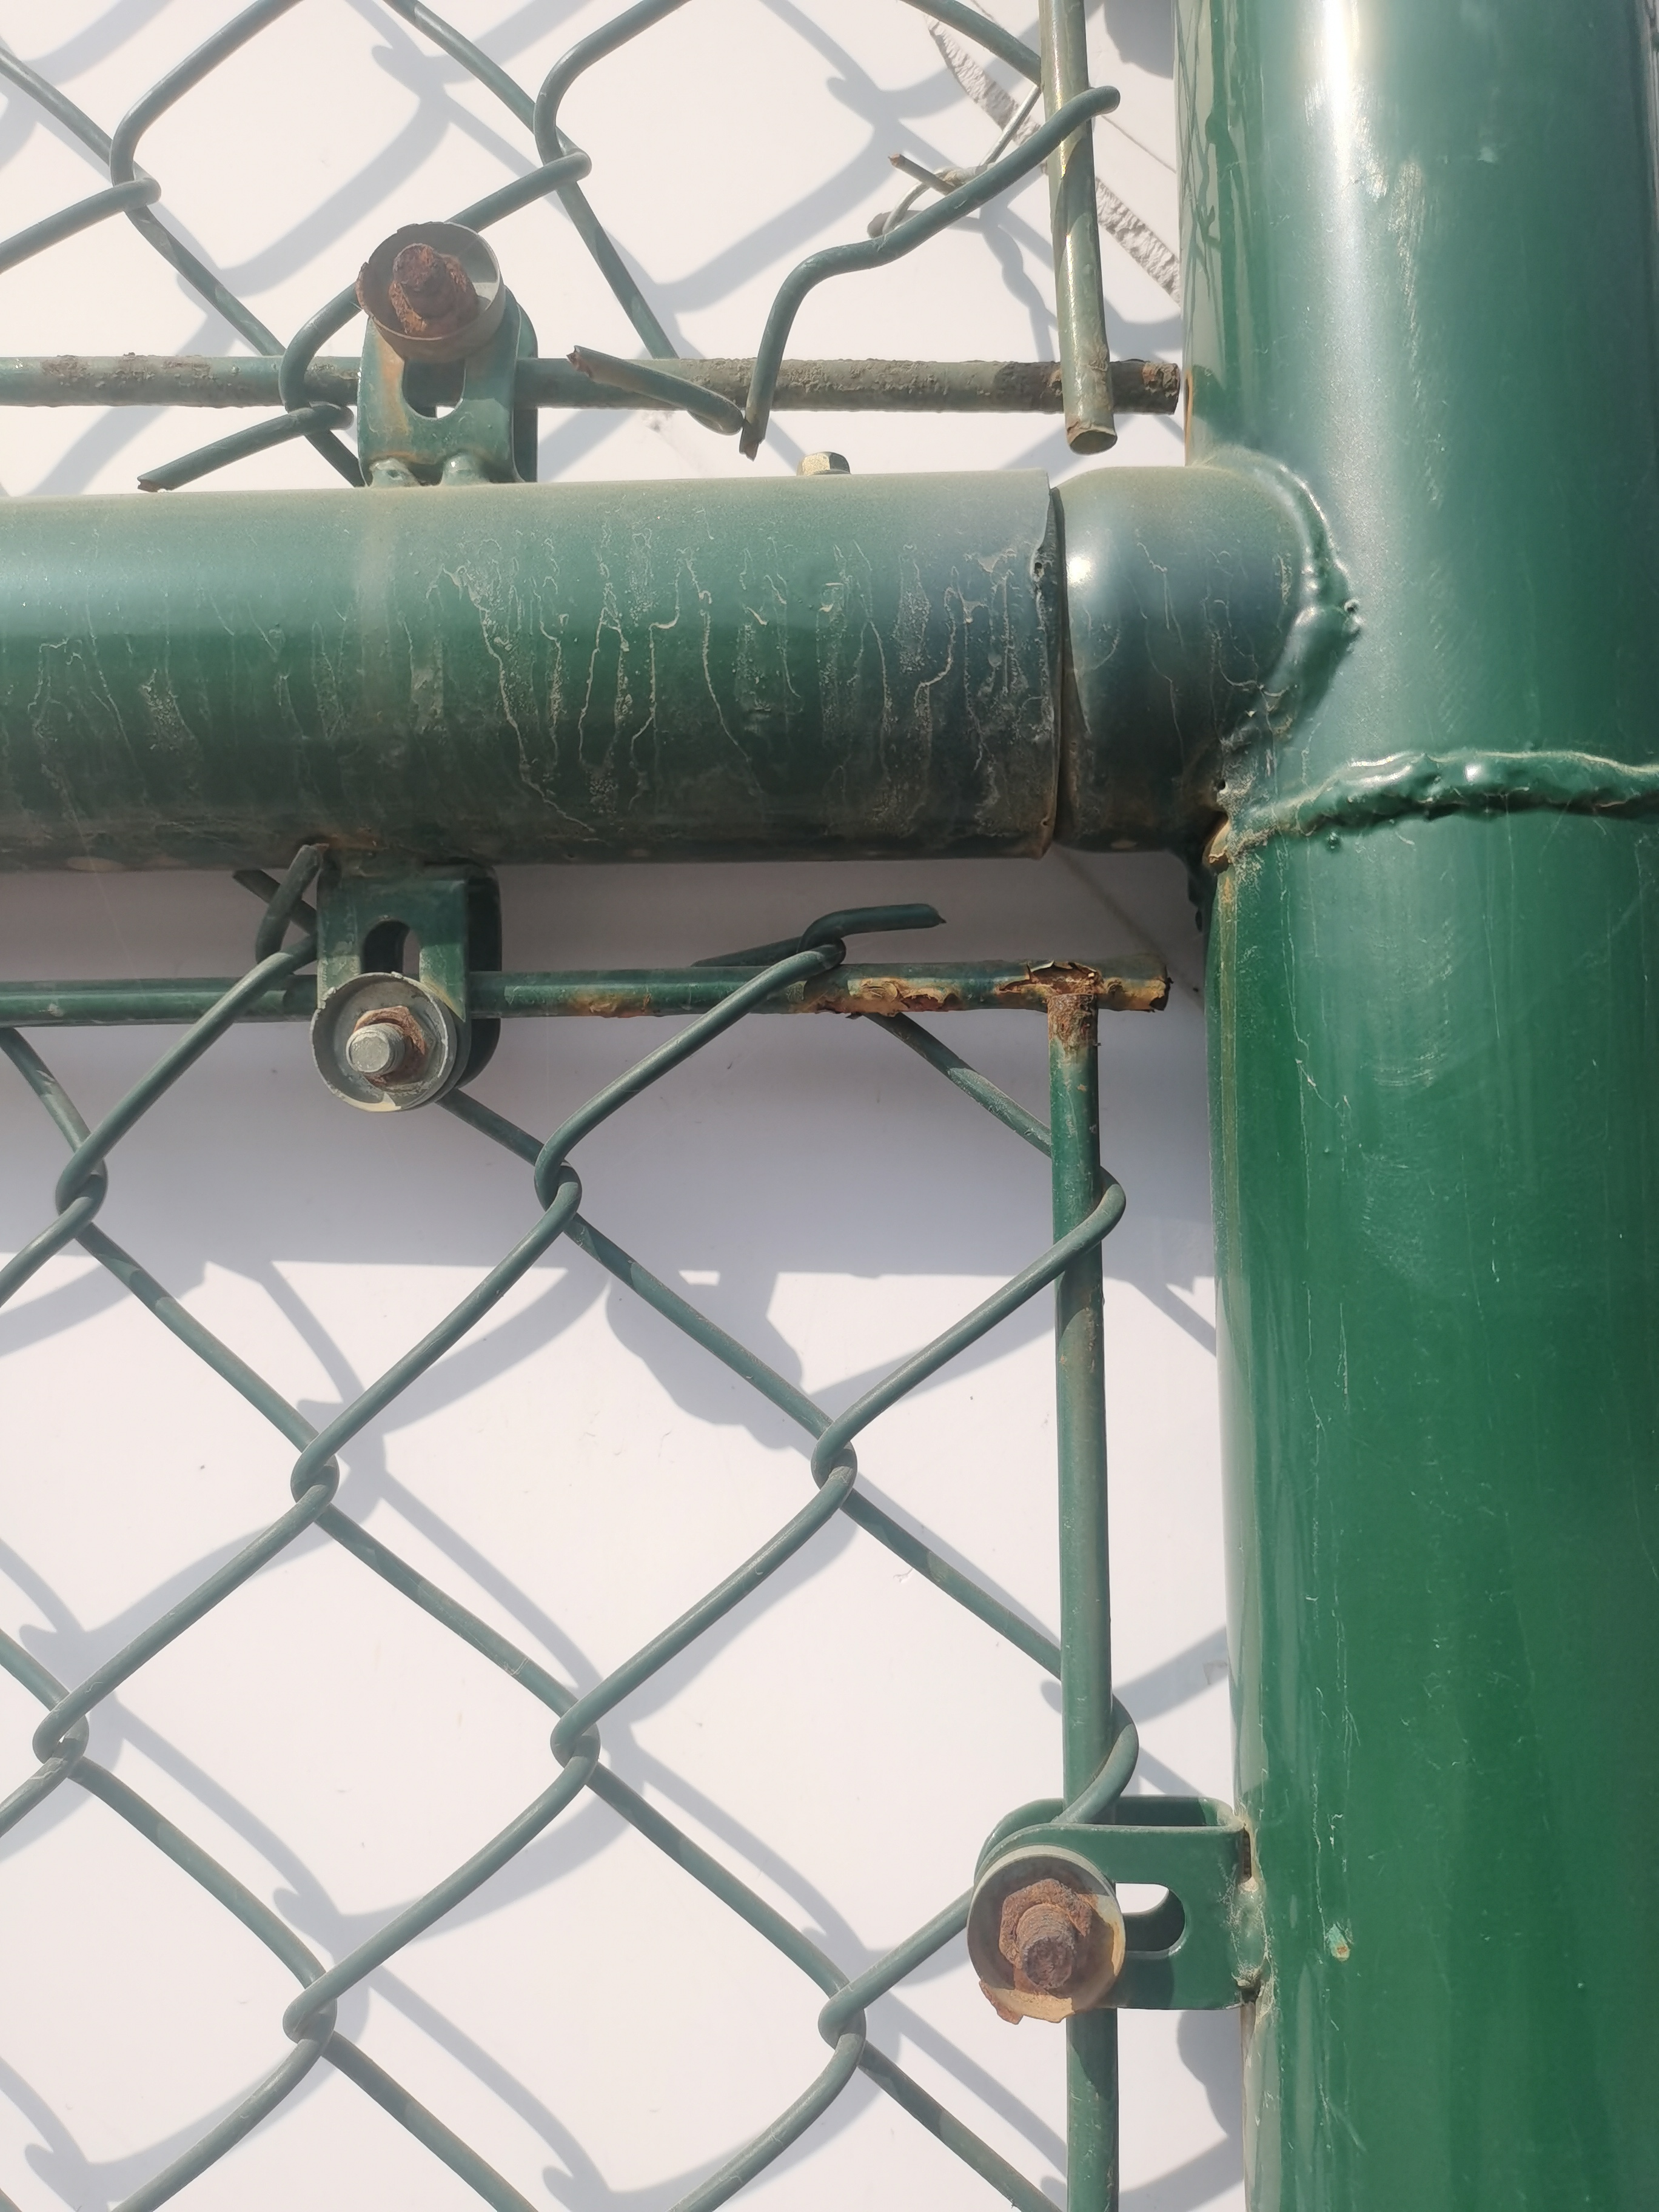bolt_b: (995, 1872, 1103, 1984), (383, 249, 484, 343), (347, 1000, 443, 1092)
bolt_c: (795, 451, 854, 479)
